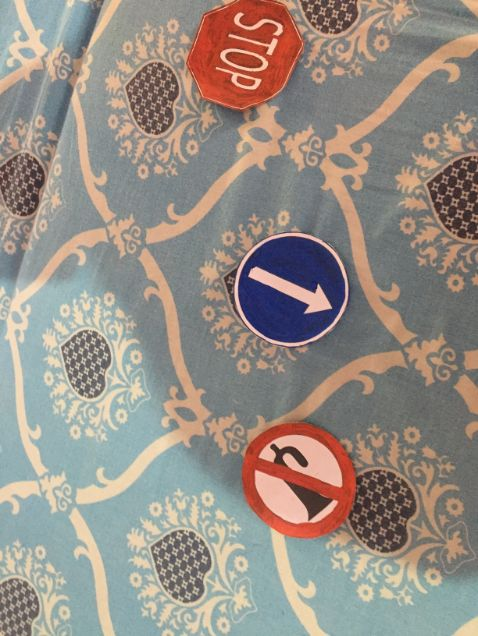go-stright: (233, 230, 352, 349)
no-horn: (241, 419, 360, 538)
stop: (184, 1, 294, 110)
